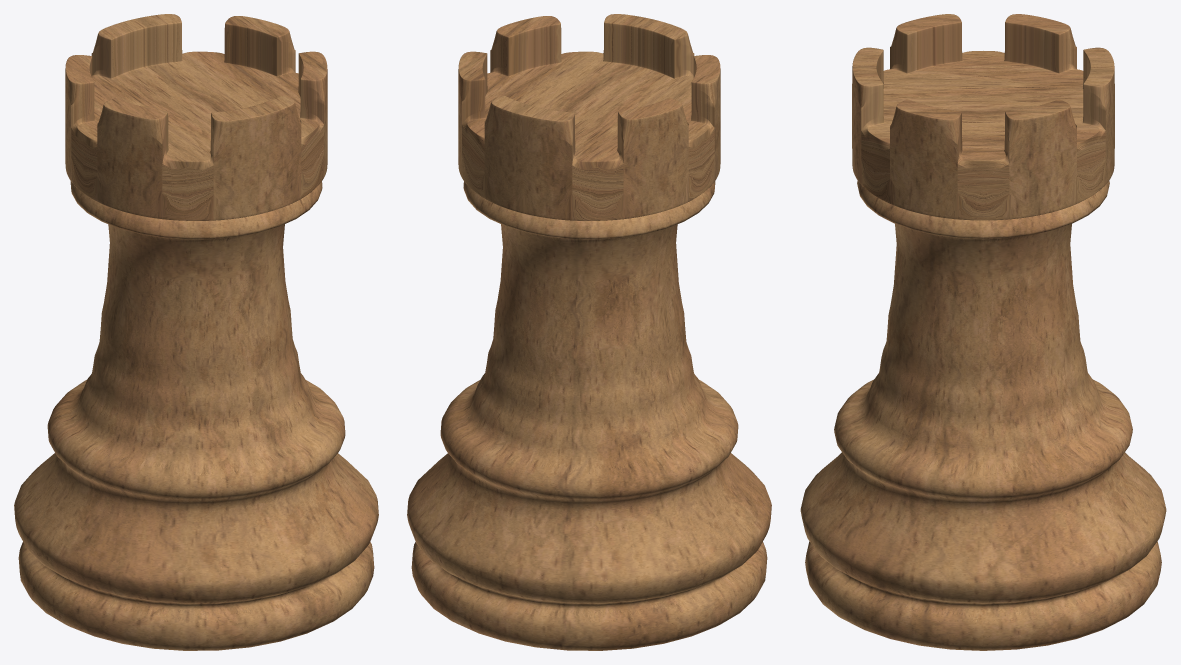
File: 白ルーク.fbx
3 renders of one model, left to right at view 1: azimuth 30°, elevation 25°; view 2: azimuth 150°, elevation 25°; view 3: azimuth 270°, elevation 25°, orthographic.
Parts seen in each view (by area): view 1: 白ルーク1; view 2: 白ルーク1; view 3: 白ルーク1.
Boxes of the visible parts, x1,y1,x2,y2 form: 白ルーク1: [14, 14, 378, 650]; 白ルーク1: [407, 14, 771, 650]; 白ルーク1: [800, 14, 1166, 650].
Bounding box in the file's own units: 2.35 × 3.69 × 2.35.
